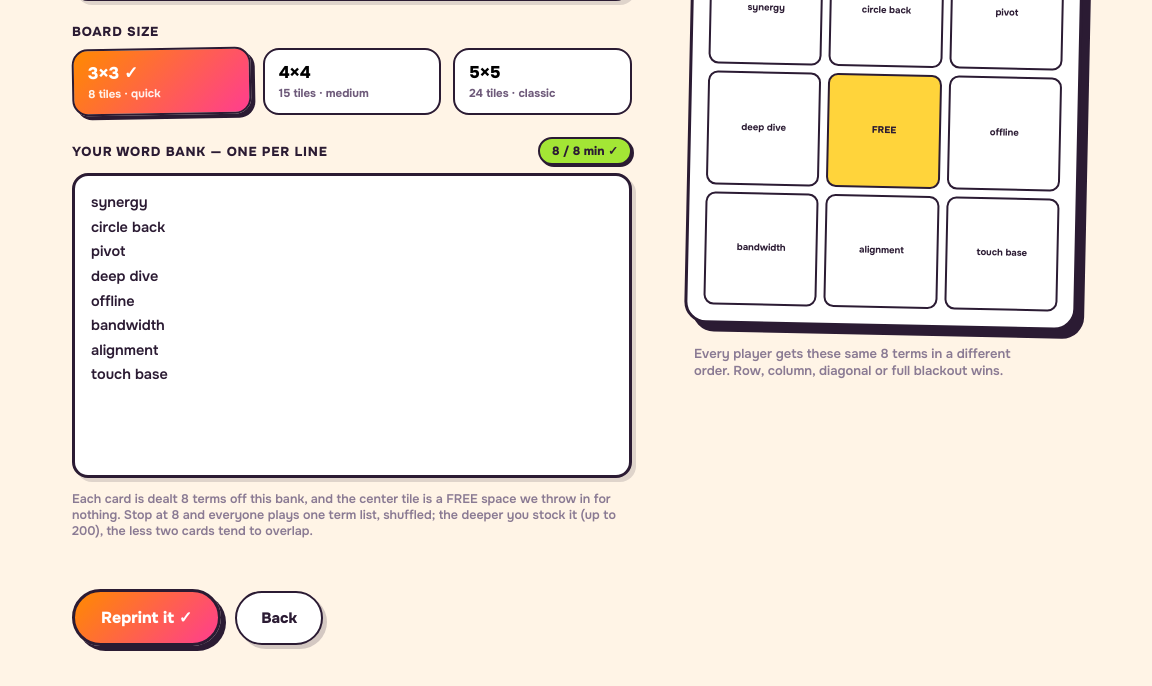
edit board page › surfaces a server ApiError in the alert area
The width and height of the screenshot is (1152, 686).
(page scrolled)
Click the button "Reprint it ✓" at (147, 618), box [72, 589, 221, 646]
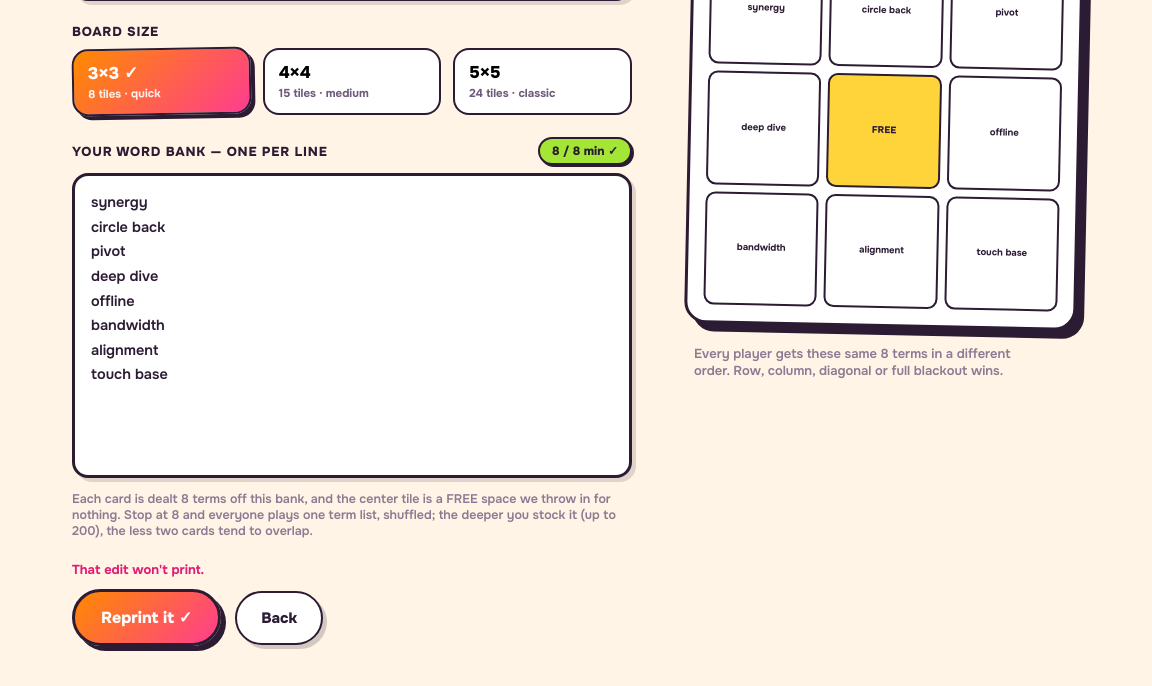
Check: the message reads "That edit won't print.", box [72, 561, 204, 578]
